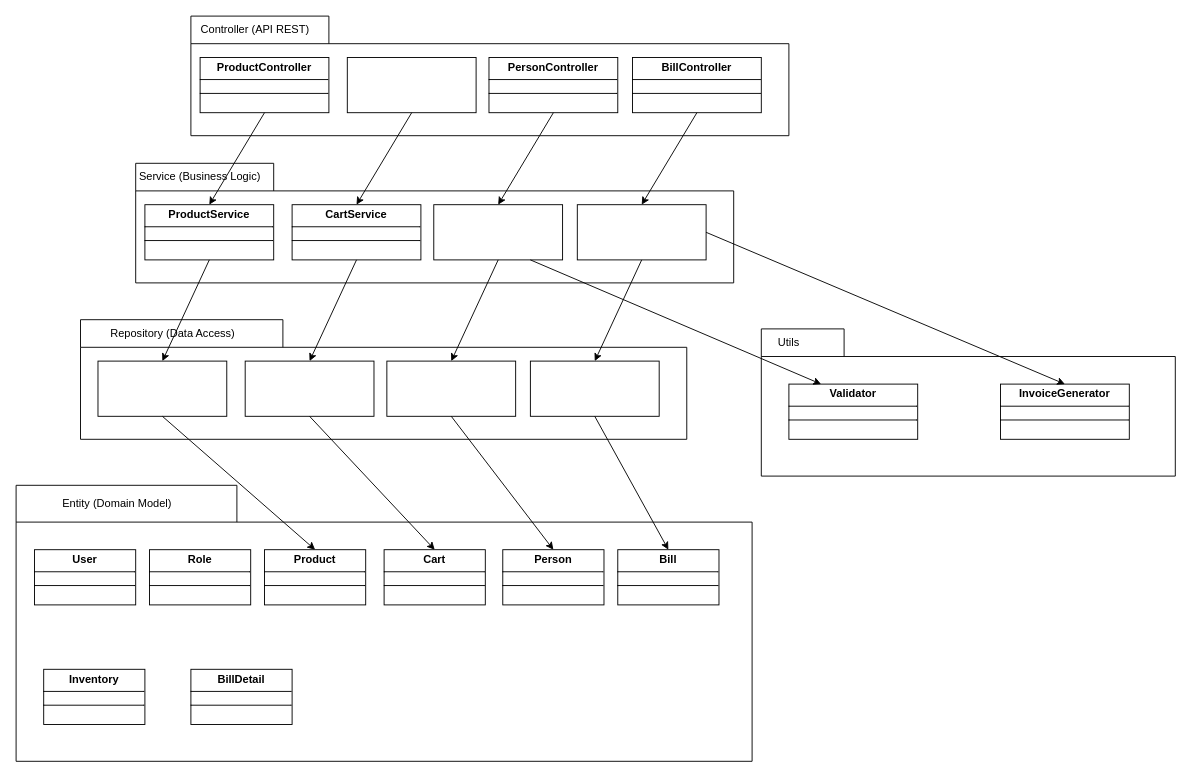
Some shapes in this 1191 by 777 pixel diagram are drawn without their labels. The box of each missing label's shape, as (x1, y1, x2, y2) in pixels:
BillService: (576, 204, 706, 260)
CartController: (346, 57, 476, 113)
IBillRepository: (529, 360, 659, 416)
ICartRepository: (244, 360, 374, 416)
IPersonRepository: (386, 360, 516, 416)
IProductRepository: (97, 360, 227, 416)
PersonService: (433, 204, 563, 260)
